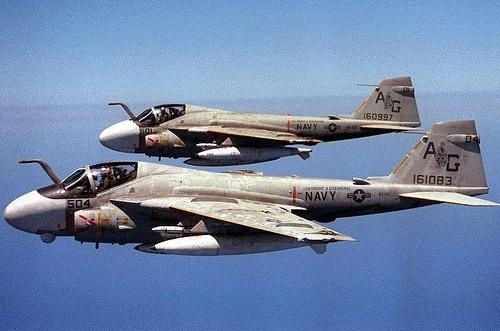aeroplane: (4, 122, 498, 258), (98, 75, 426, 167)
